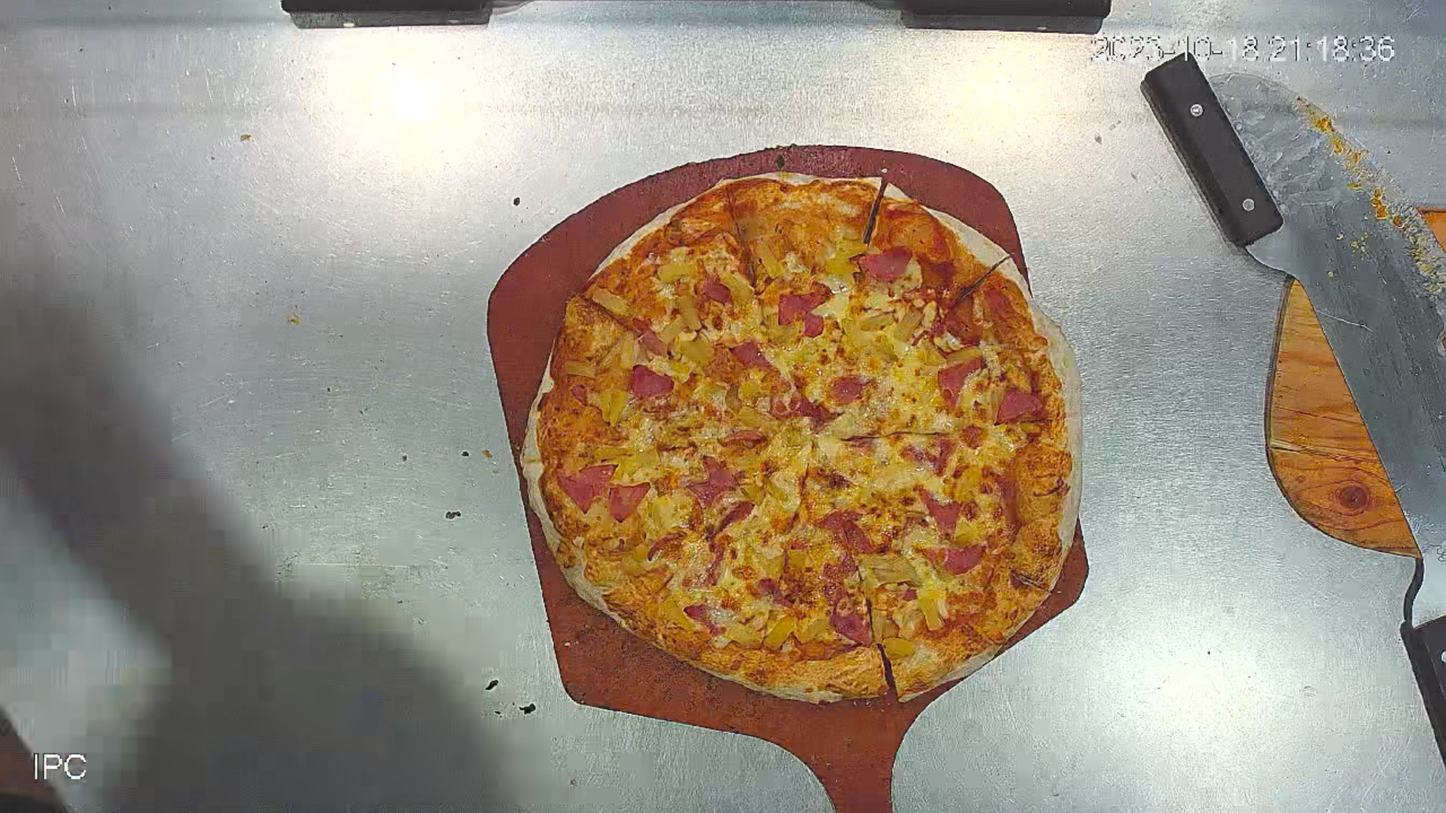hawaiian: (513, 163, 1092, 711)
